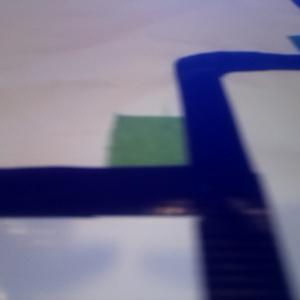top_left: (108, 116, 233, 216)
